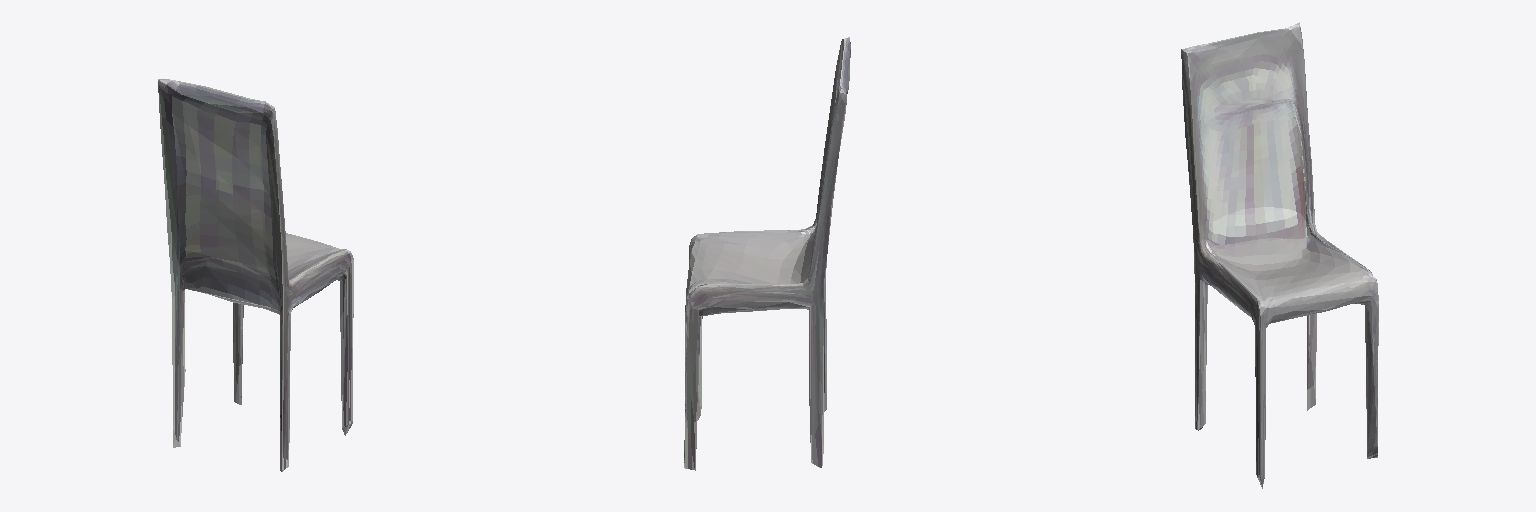
The picture shows the model from 3 angles: view 1: azimuth 30°, elevation 25°; view 2: azimuth 150°, elevation 25°; view 3: azimuth 270°, elevation 25°; orthographic projection.
Size of the model in its own units: 0.4765 by 1 by 0.4614.
Materials: 1 (1 with a texture image).